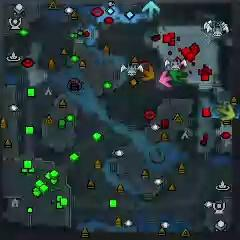x1: (158, 71, 173, 87)
x2: (218, 104, 235, 121)
x3: (142, 1, 161, 20)
x4: (169, 69, 188, 84)
x5: (139, 65, 155, 82)
